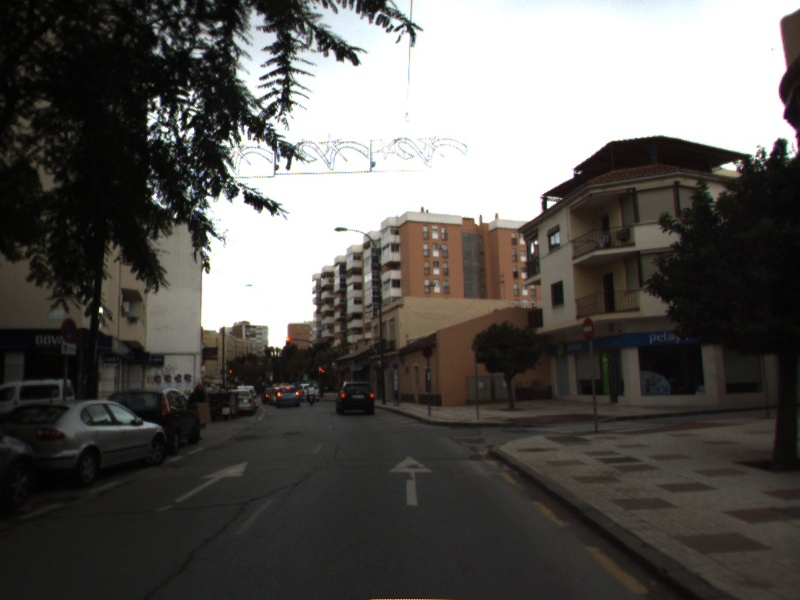STRAIGHT: (171, 459, 251, 505), (386, 453, 436, 508)
